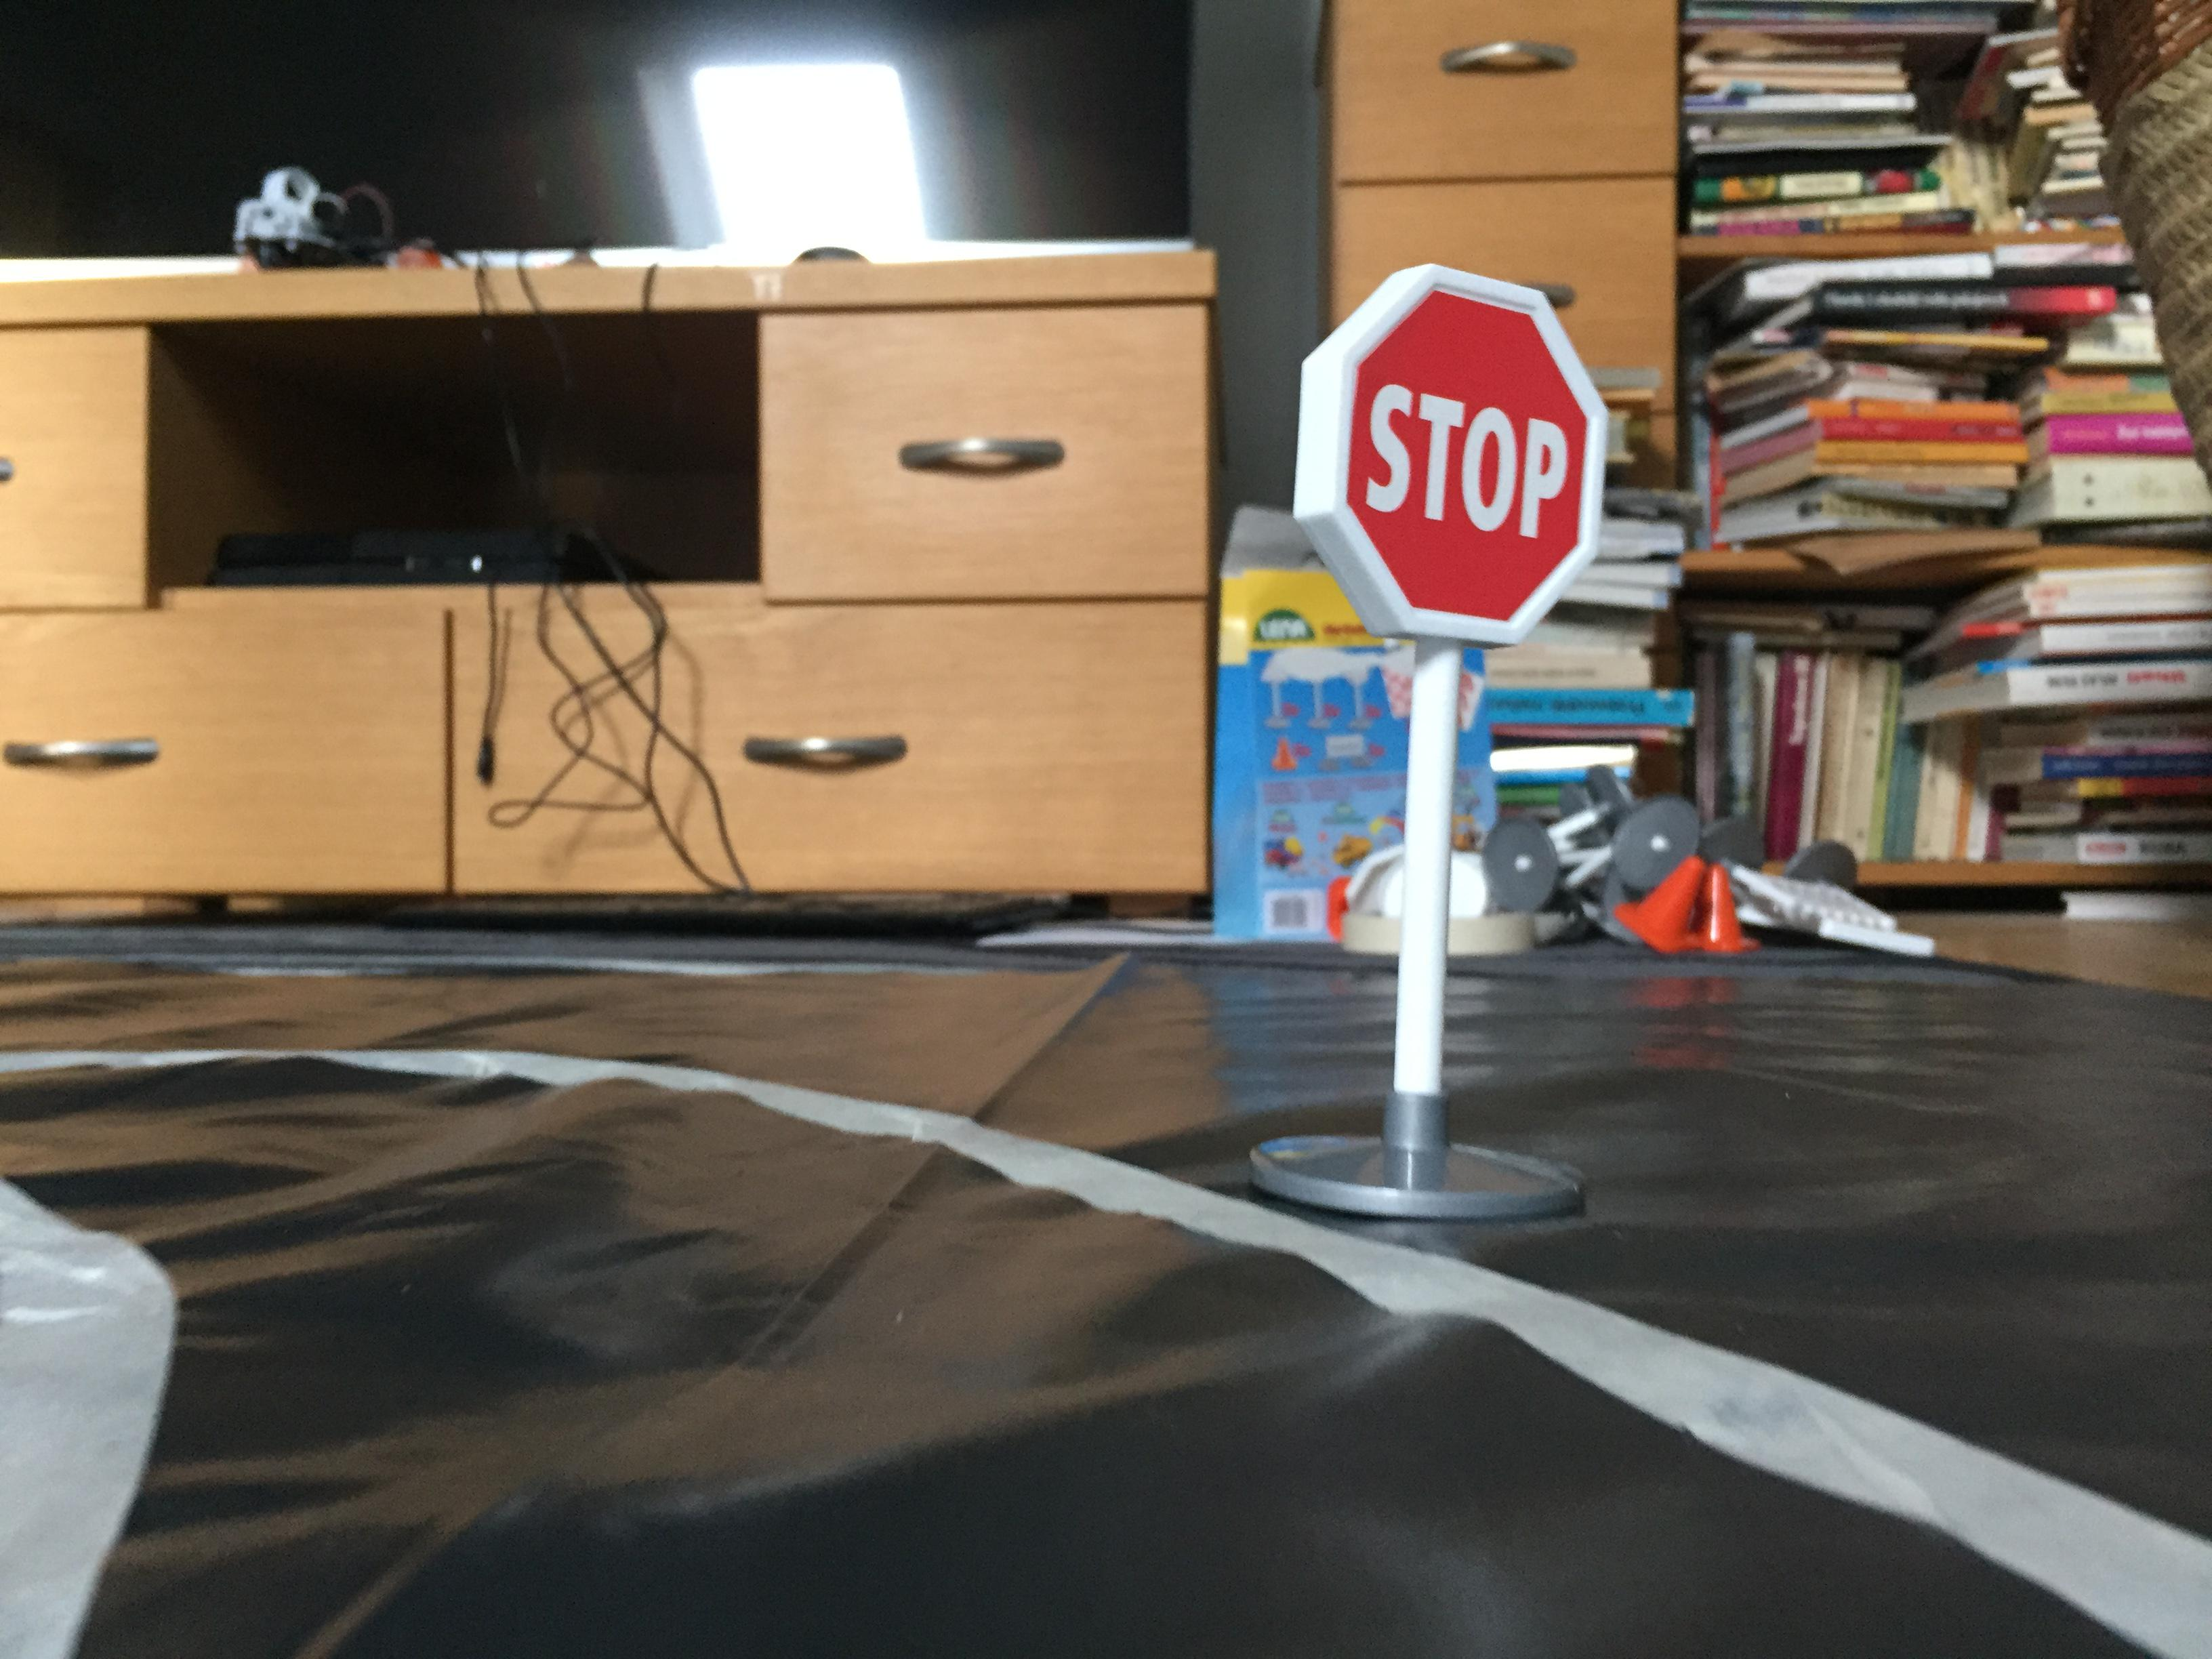stop: (1280, 253, 1625, 660)
